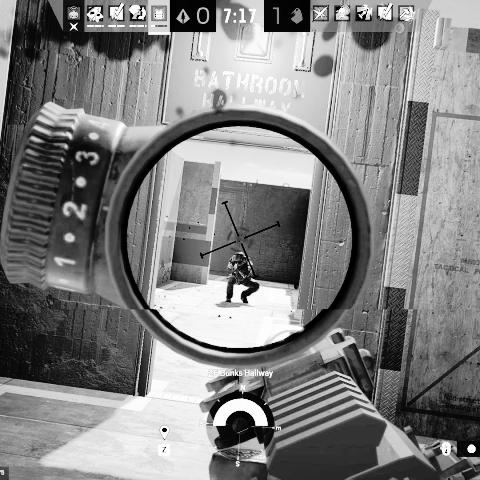Character: (223, 249, 260, 306)
Head: (232, 251, 247, 266)
